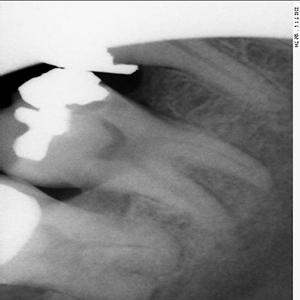tooth: (0, 67, 271, 232), (0, 175, 181, 299)
